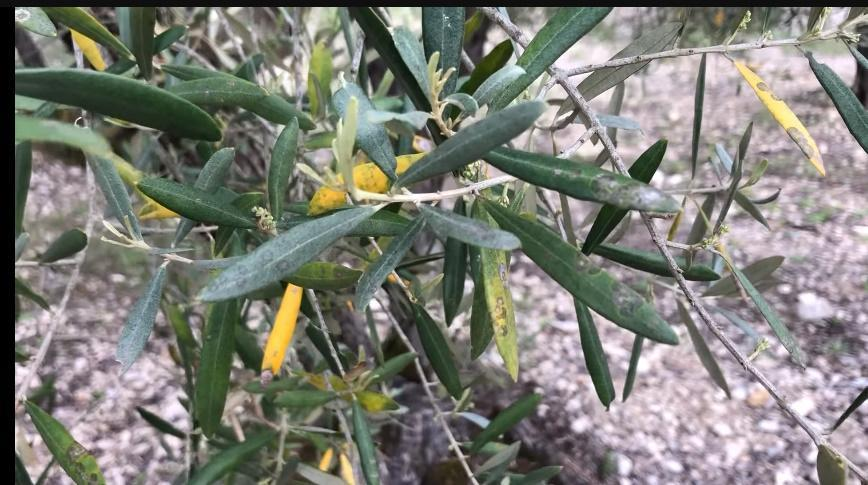OlivePeacockSpot: (486, 200, 682, 348), (198, 205, 370, 302), (492, 152, 684, 216), (730, 60, 830, 176), (718, 253, 808, 372), (306, 152, 424, 214), (25, 400, 107, 485), (480, 253, 524, 384), (256, 290, 306, 389), (177, 76, 272, 108), (292, 265, 364, 289), (15, 7, 59, 40)
